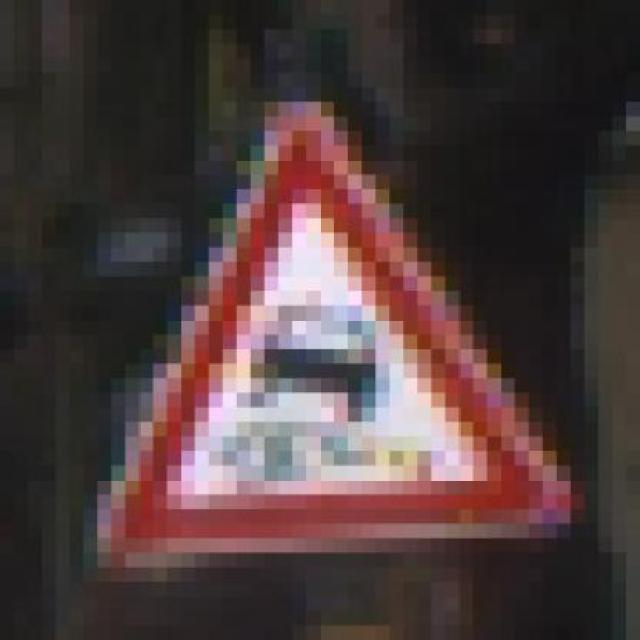Slippery Road Ahead: (69, 73, 585, 582)
